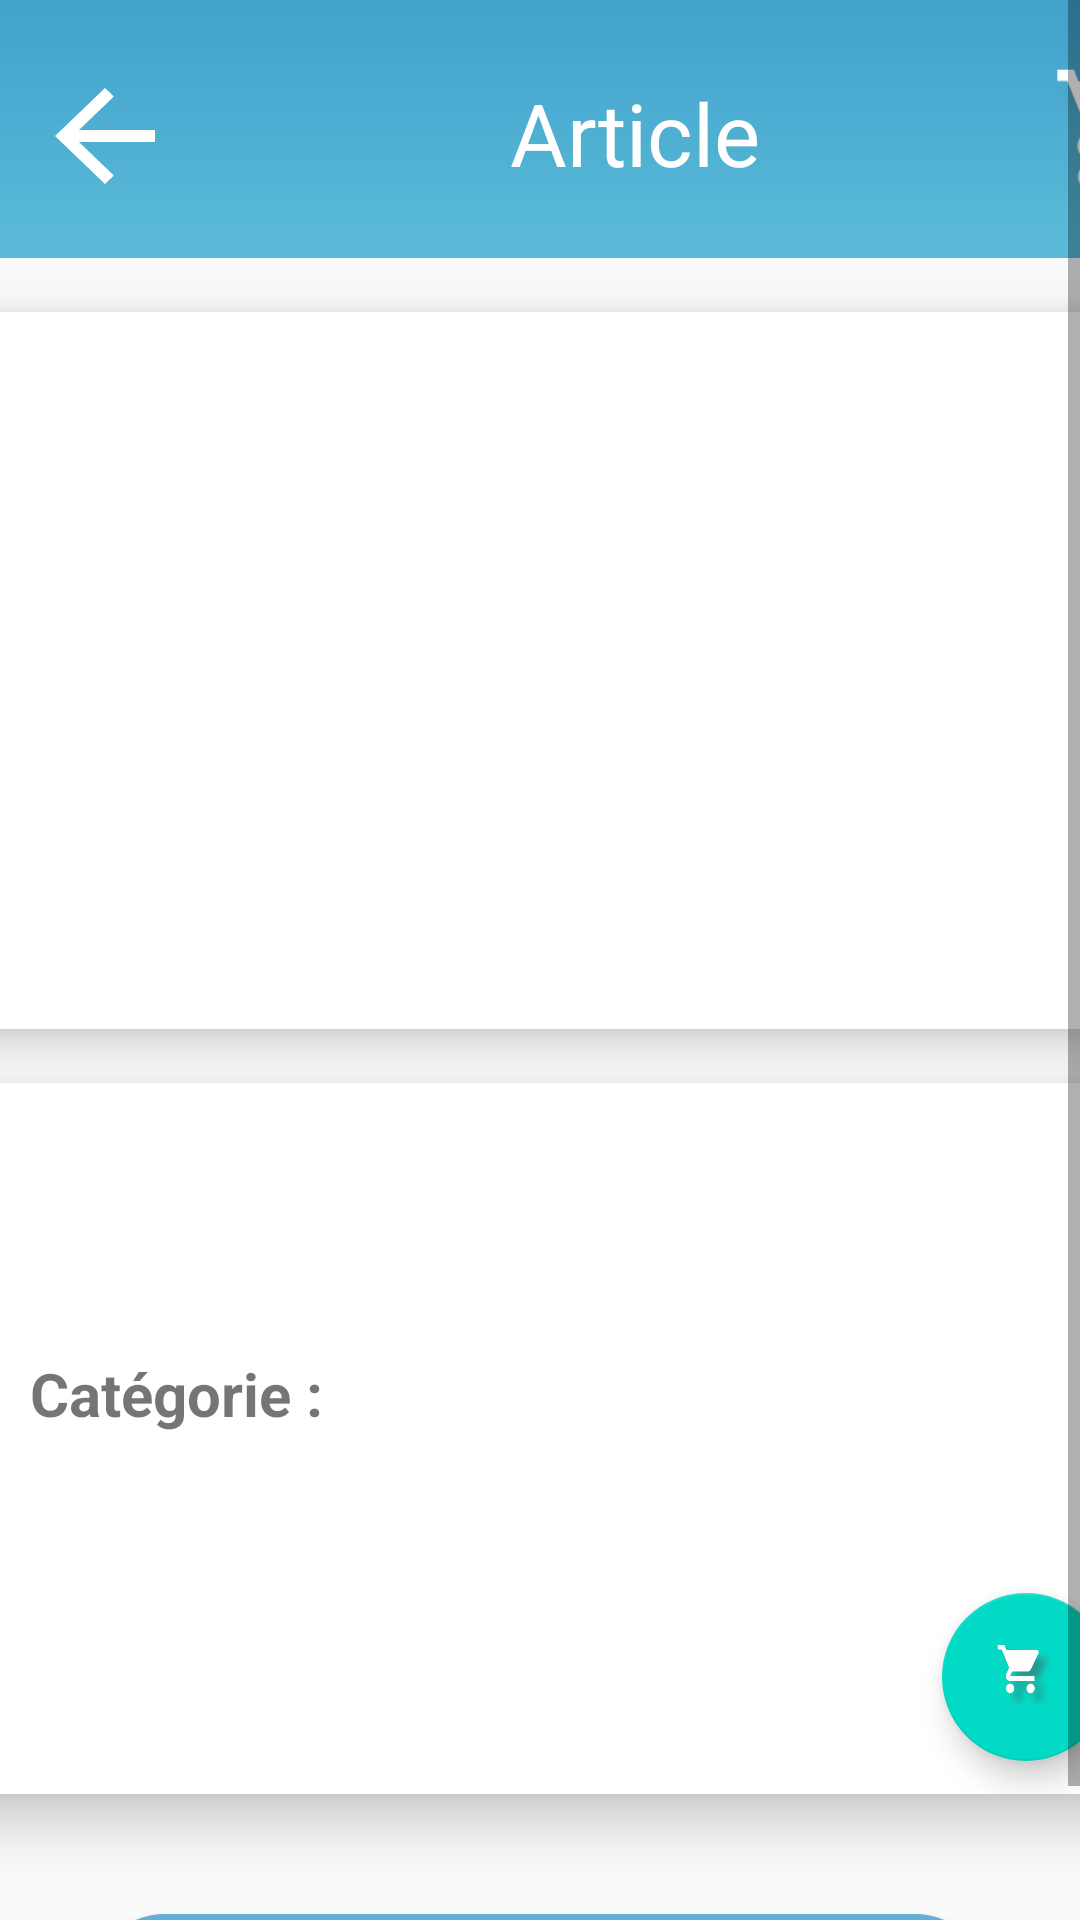

Icon click points for this 1080*1920 phone screenshot, format (x=x, y=y):
arrow back: (x=105, y=136)
